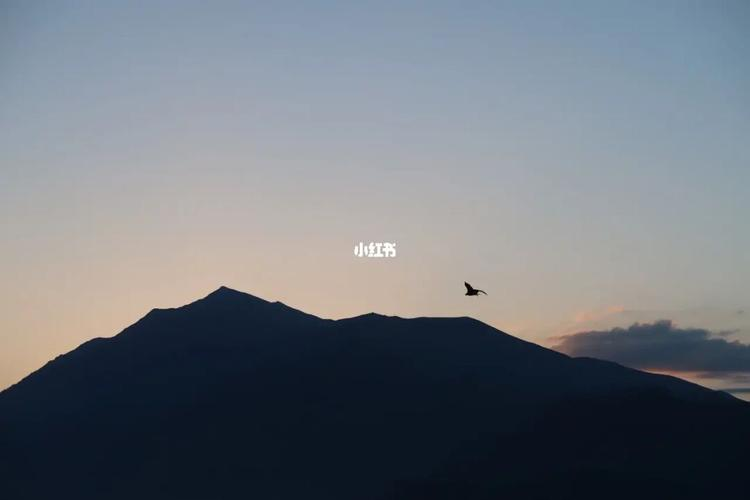mountain: (0, 304, 744, 491)
